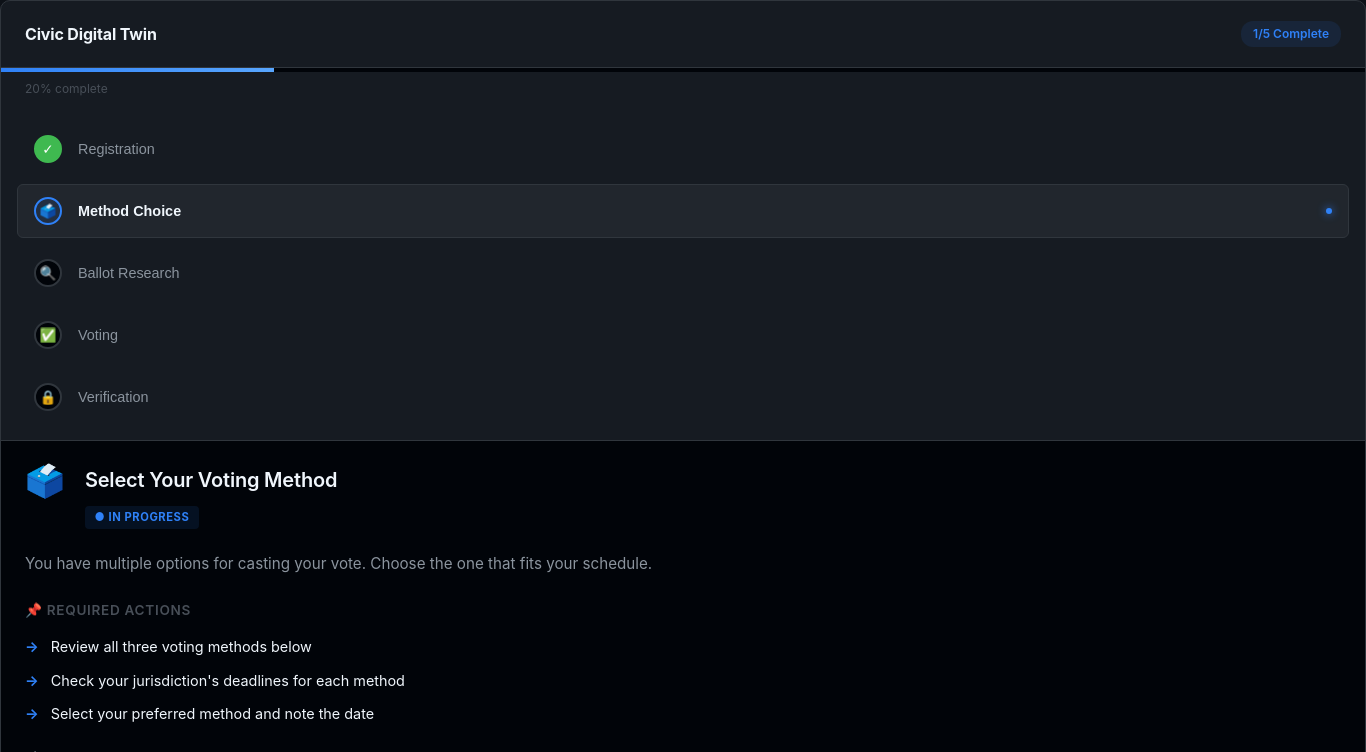
Test: Step Click Interaction › clicking Verification shows its headline
Click the button "🔒 Verification".
click(113, 397)  # box [17, 370, 1349, 424]
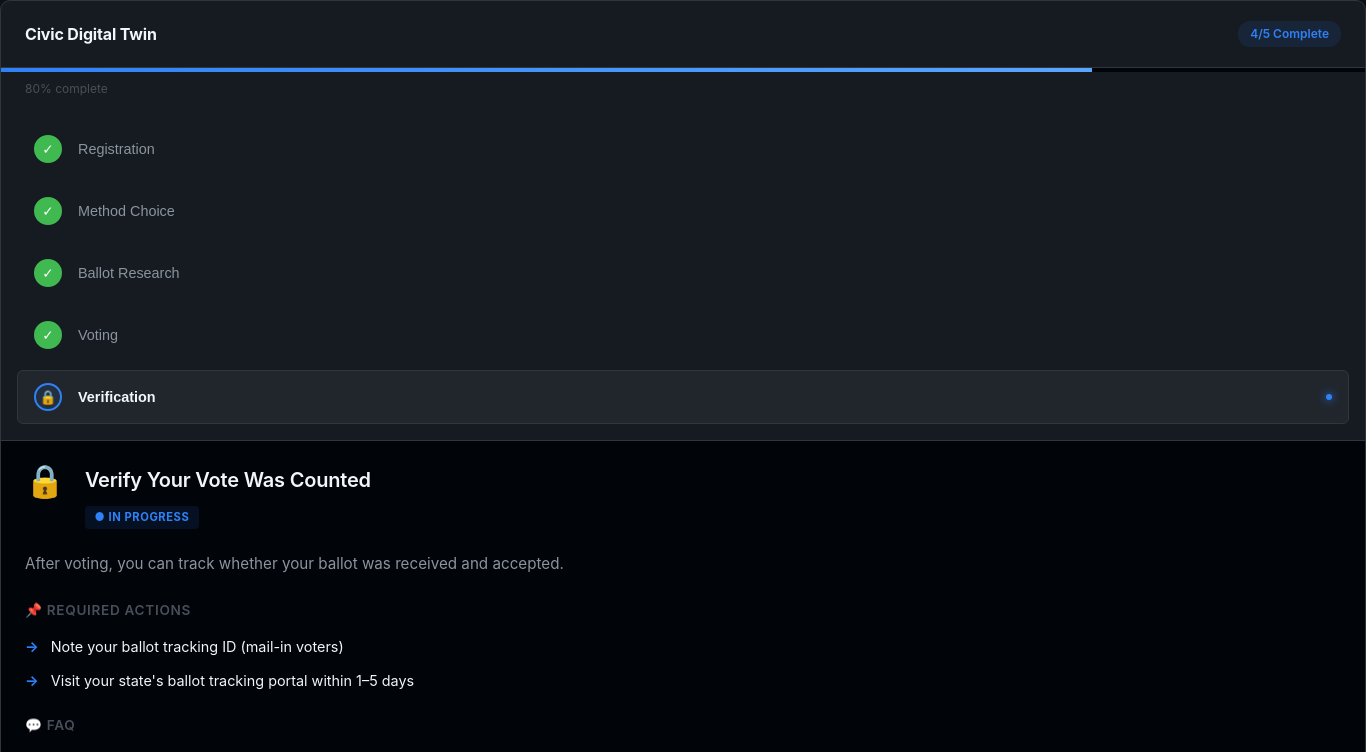
Check: the heading "Verify Your Vote Was Counted" is shown, box [85, 465, 371, 495]
